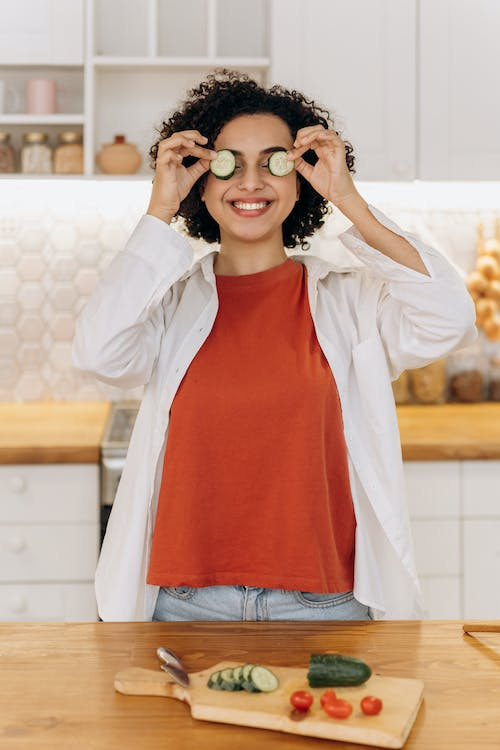knife: (152, 647, 189, 691)
